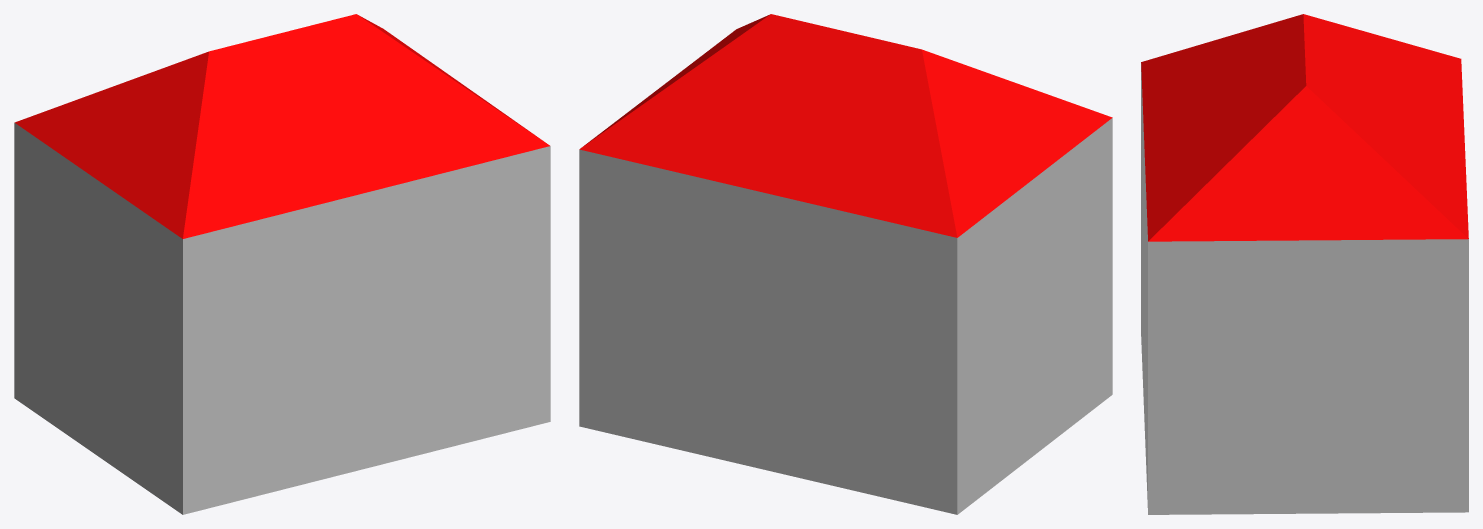
3 renders of one model, left to right at view 1: azimuth 30°, elevation 25°; view 2: azimuth 150°, elevation 25°; view 3: azimuth 270°, elevation 25°, orthographic.
Size of the model in its own units: 6.9 by 6.58 by 5.23.
